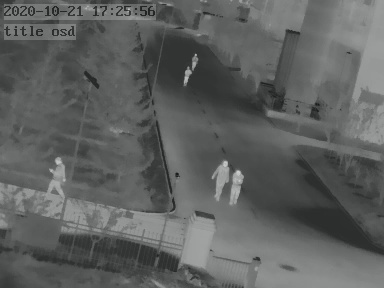person: (47, 156, 66, 199), (213, 158, 230, 200), (231, 168, 243, 206), (190, 52, 200, 73), (180, 66, 189, 85)
